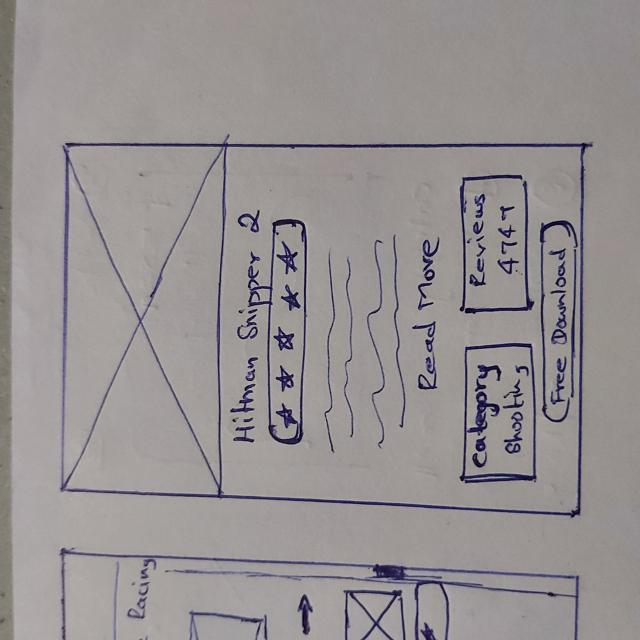Button: (538, 219, 576, 423)
Image: (64, 143, 221, 495)
Layout: (463, 345, 538, 483), (461, 177, 528, 311)
MainLayout: (59, 139, 586, 515)
RatingBar: (267, 215, 310, 446)
TextView: (321, 229, 409, 454), (234, 207, 260, 448), (417, 234, 439, 393), (471, 366, 494, 467), (506, 364, 527, 459), (498, 204, 518, 277), (473, 192, 488, 282)
